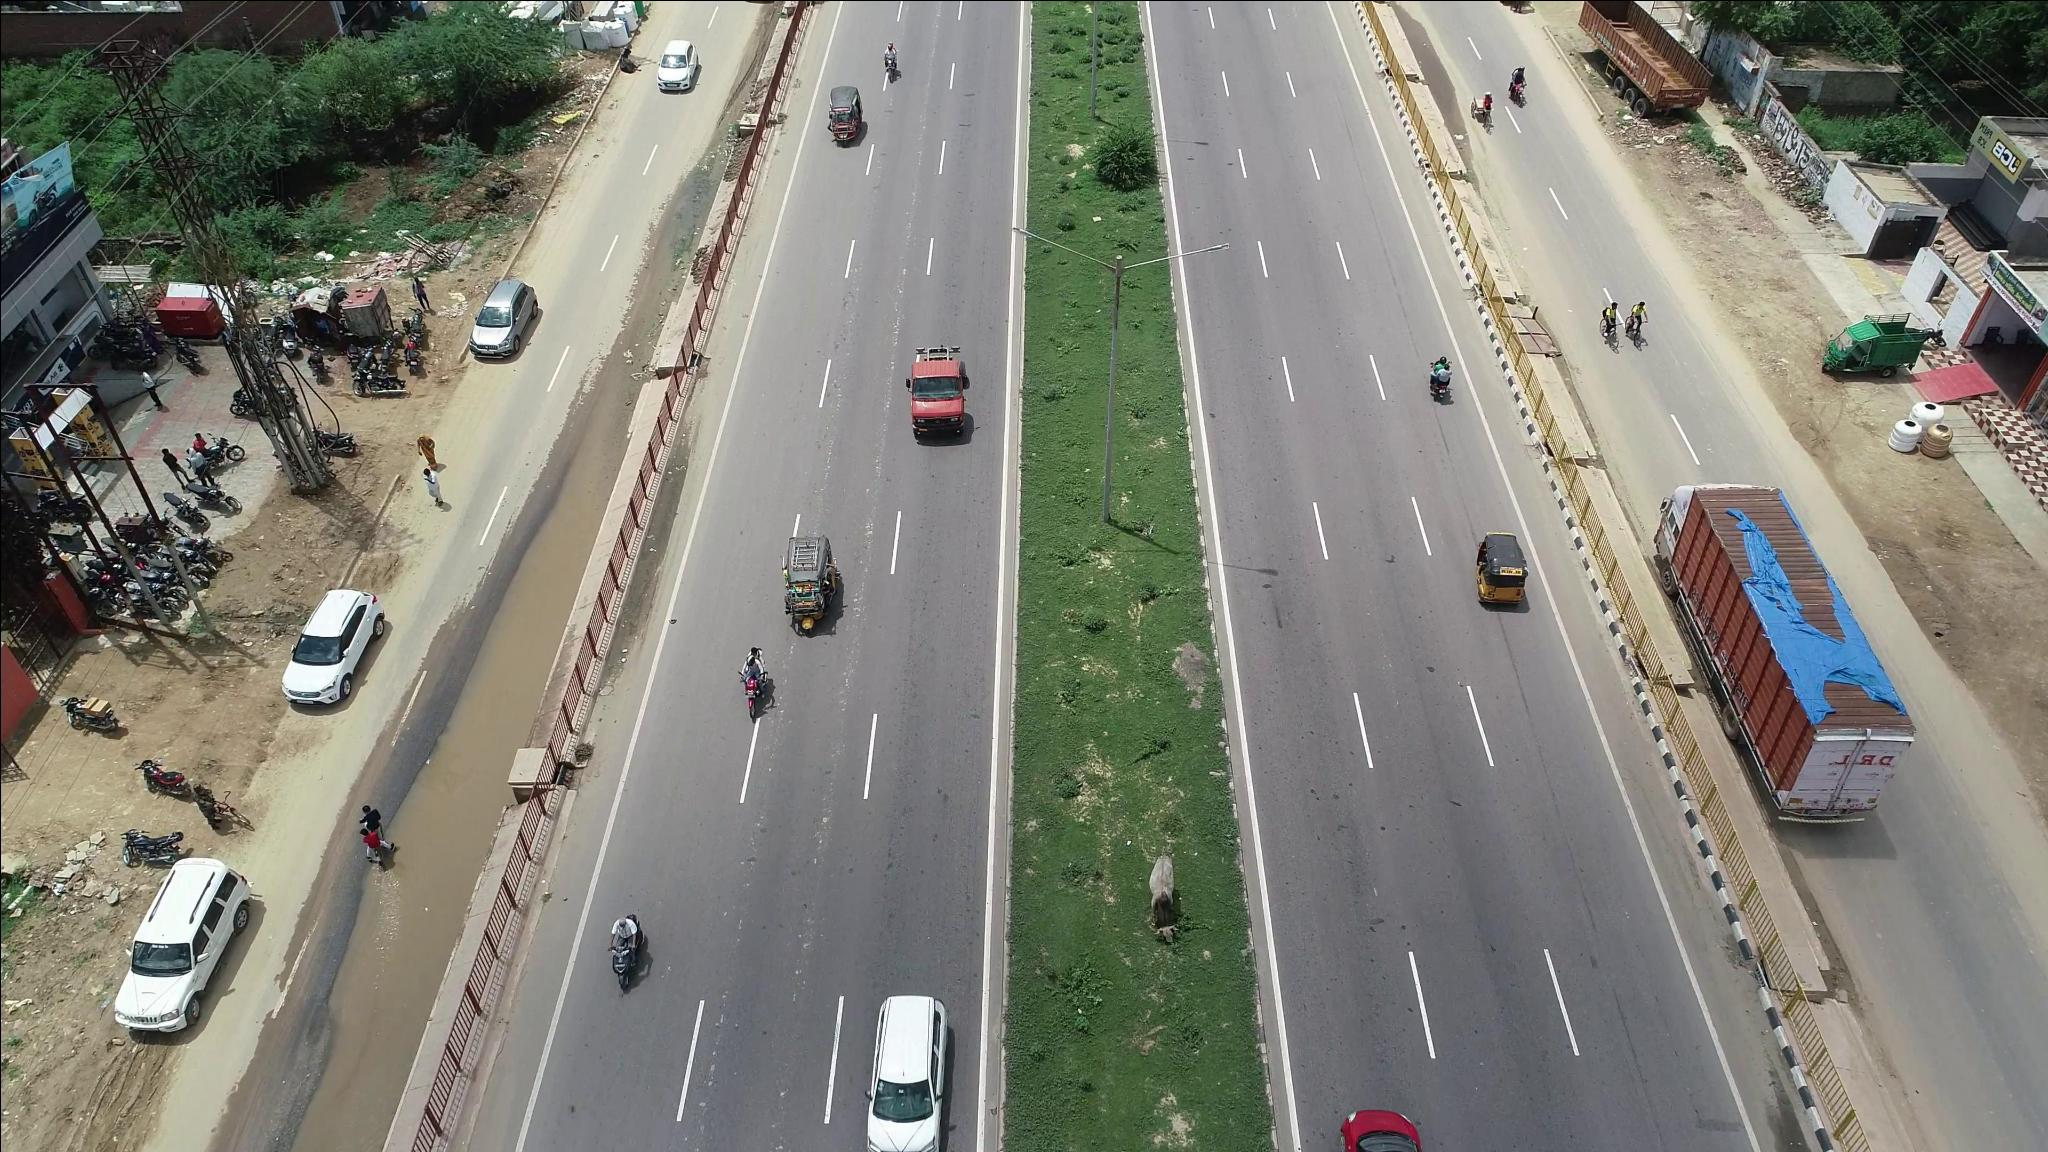Ravelling: (785, 792, 836, 1024), (836, 525, 876, 755)
Waterlogging: (453, 421, 610, 767), (332, 767, 491, 1063)
